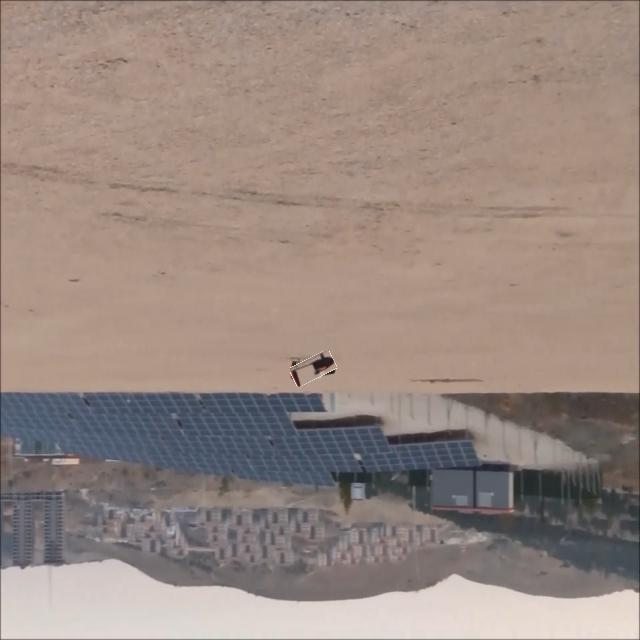iha: (292, 355, 335, 375)
